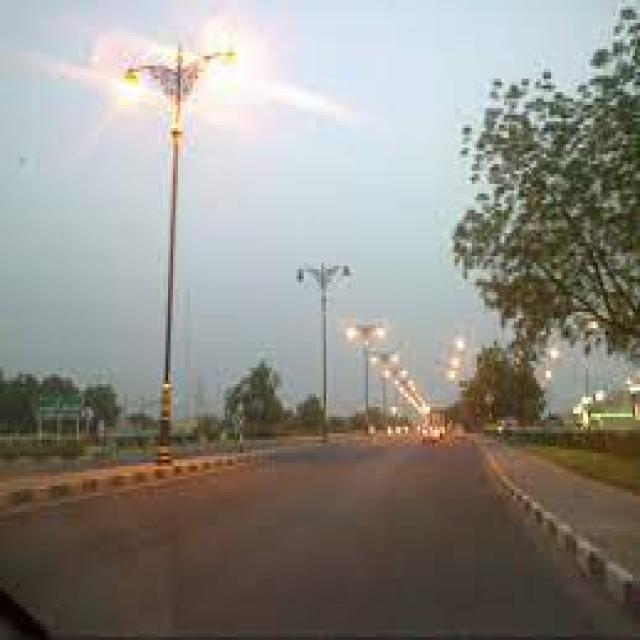Street Light: (121, 46, 237, 466), (291, 262, 351, 440), (346, 318, 385, 434)
